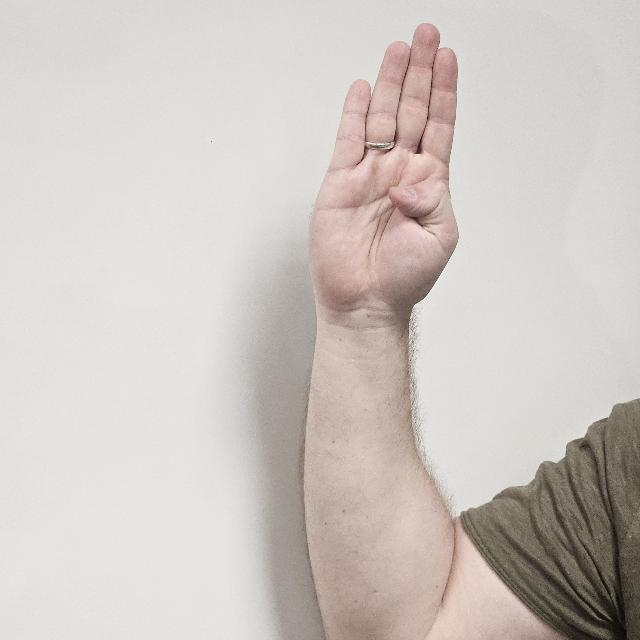Baixo: (307, 21, 461, 323)
